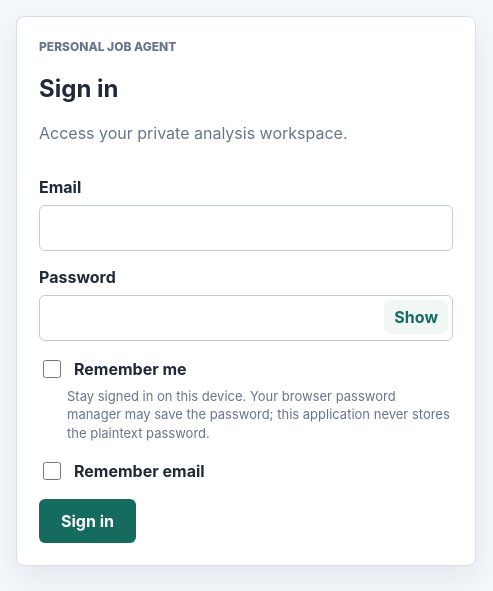
Test: Version 2.0.1 login › prevents duplicate submission while login is pending
Type "user@example.com" into the field labelled "Email".
click(246, 228); type("user@example.com")  # box [39,205,453,251]
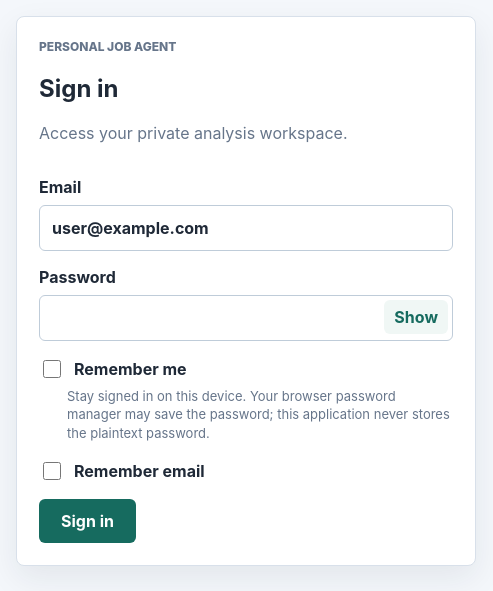
Type "test-only-password" into the password field labelled "Password".
click(246, 318); type("test-only-password")  # box [39,295,453,341]
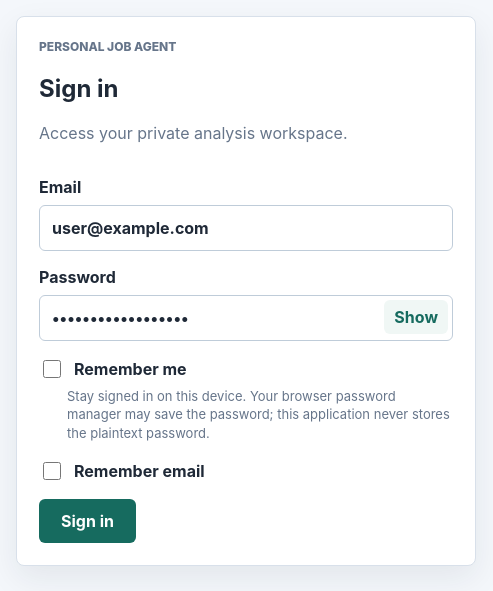
Click the button "Sign in".
click(88, 521)  # box [39,499,136,543]
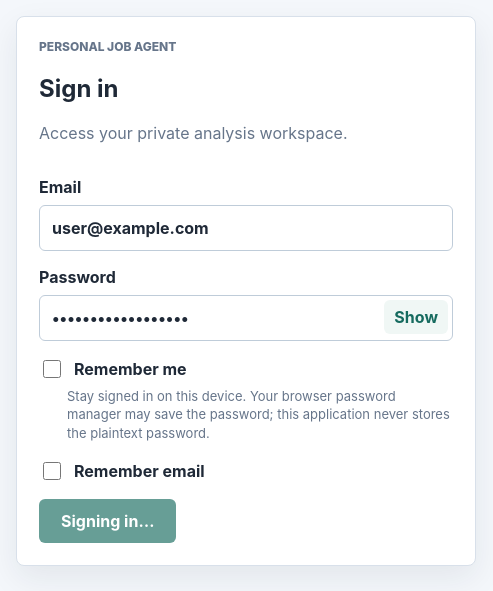
Now the button "Signing in…" is disabled, box [39,499,176,543]
Submit the form named "Signing in…", box [39,177,453,543]
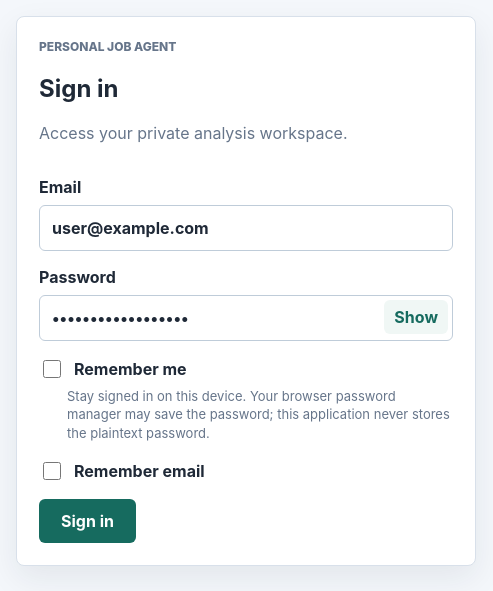
Now the button "Sign in" is enabled, box [39,499,136,543]
